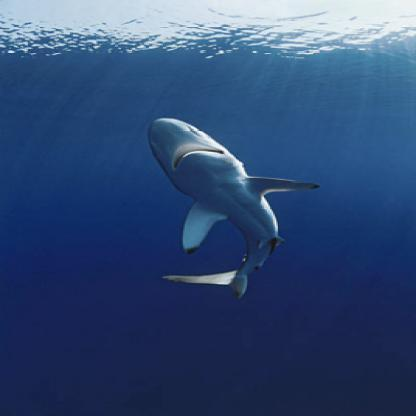Bio: (146, 119, 318, 298)
